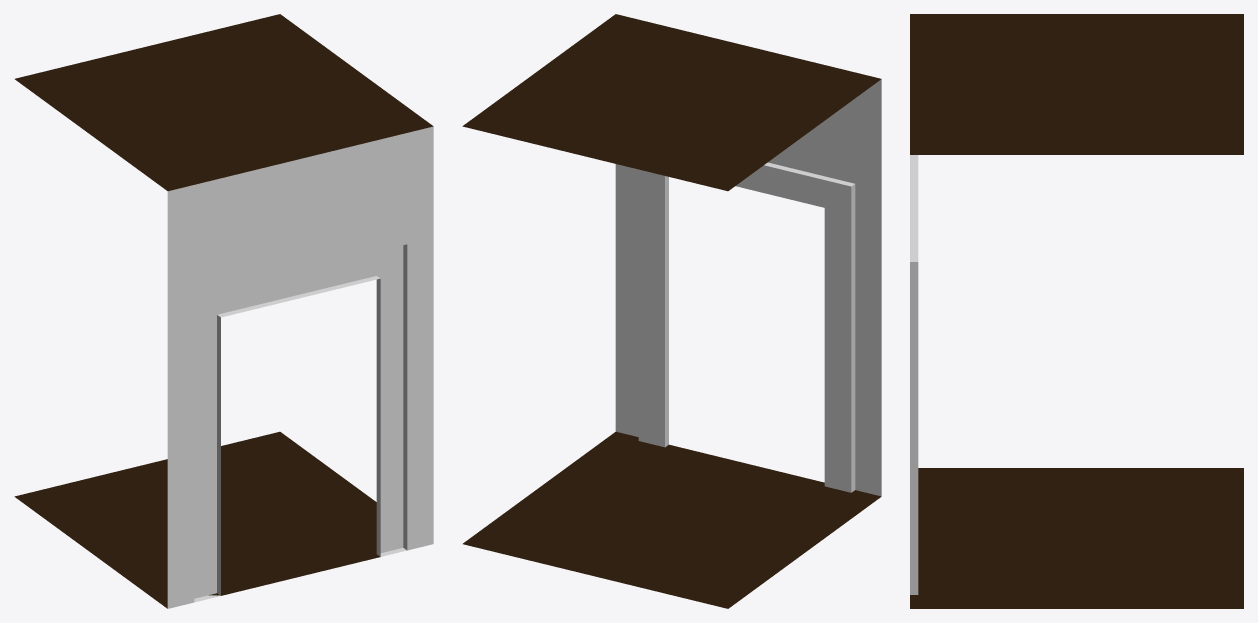
The model's file is SM_IntHouseRoomDoorway.fbx.
3 views of the same model, side by side, from view 1: azimuth 30°, elevation 25°; view 2: azimuth 150°, elevation 25°; view 3: azimuth 270°, elevation 25° (orthographic). The views are drawn at different scales.
Parts seen in each view (by area): view 1: Plane019, Box098; view 2: Plane019, Box098; view 3: Plane019, Box098.
Boxes of the visible parts, <box> form: Plane019: <box>14,14,433,608</box>; Box098: <box>167,126,433,608</box>; Plane019: <box>462,14,881,608</box>; Box098: <box>615,79,881,496</box>; Plane019: <box>910,14,1243,608</box>; Box098: <box>910,155,918,594</box>.
Bounding box in the file's own units: 200 × 300 × 200.
